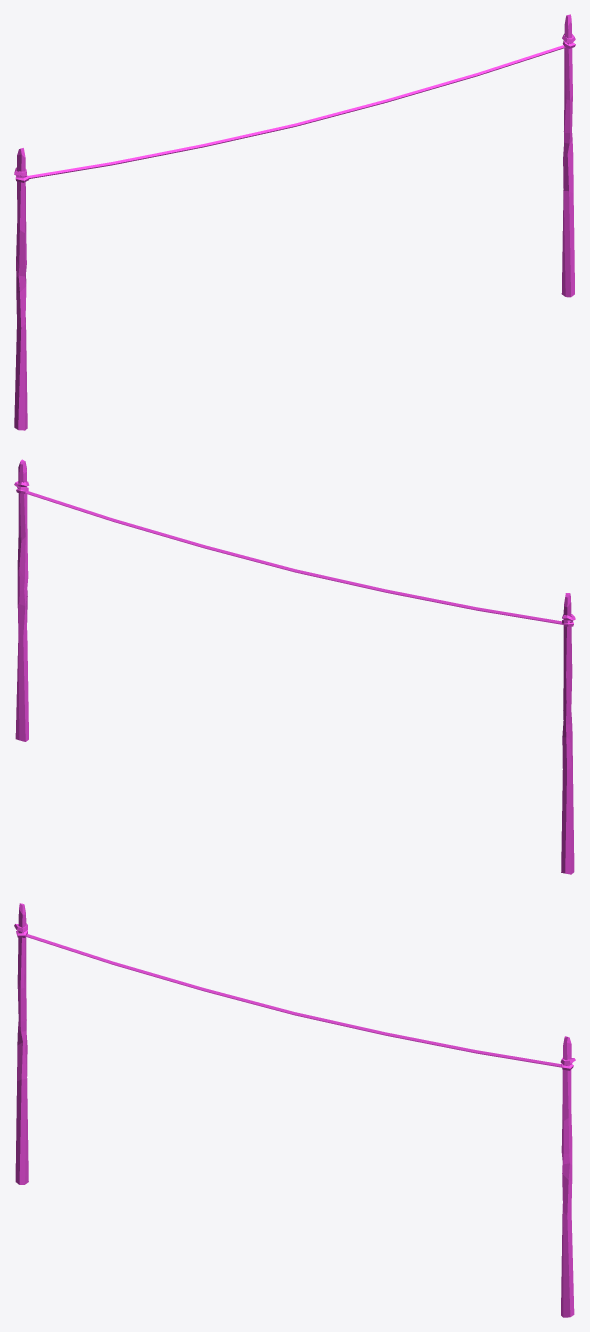
File: SM_Clothesline_Poles_5m_Empty_Fantasy.fbx
The picture shows the model from 3 angles, top to bottom: view 1: azimuth 30°, elevation 25°; view 2: azimuth 150°, elevation 25°; view 3: azimuth 330°, elevation 25°; orthographic projection.
Parts seen in each view (by area): view 1: SM_Clothesline_Poles_5m_Empty_Fantasy; view 2: SM_Clothesline_Poles_5m_Empty_Fantasy; view 3: SM_Clothesline_Poles_5m_Empty_Fantasy.
Boxes of the visible parts, box(x1,y1,x2,y2) form: SM_Clothesline_Poles_5m_Empty_Fantasy: box(14, 14, 575, 430); SM_Clothesline_Poles_5m_Empty_Fantasy: box(14, 459, 575, 874); SM_Clothesline_Poles_5m_Empty_Fantasy: box(14, 903, 575, 1317).
Bounding box in the file's own units: 5.12 × 2.45 × 0.1128.
